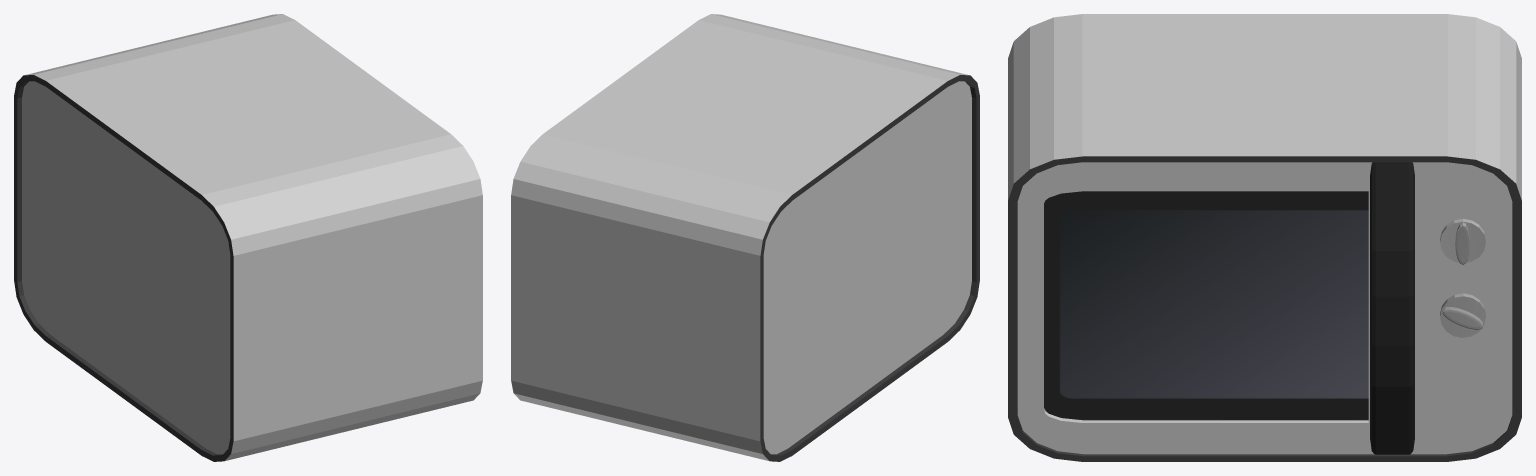
The model's file is microwave.fbx.
3 renders of one model, left to right at view 1: azimuth 30°, elevation 25°; view 2: azimuth 150°, elevation 25°; view 3: azimuth 270°, elevation 25°, orthographic. The views are drawn at different scales.
Visible parts, largest first — view 1: microwave; view 2: microwave; view 3: microwave.
Boxes of the visible parts, <box> form: microwave: <box>14,14,482,461</box>; microwave: <box>511,14,979,461</box>; microwave: <box>1008,14,1521,461</box>.
Size of the model in its own units: 51.32 by 47.25 by 72.
Materials: 1 (1 with a texture image).
